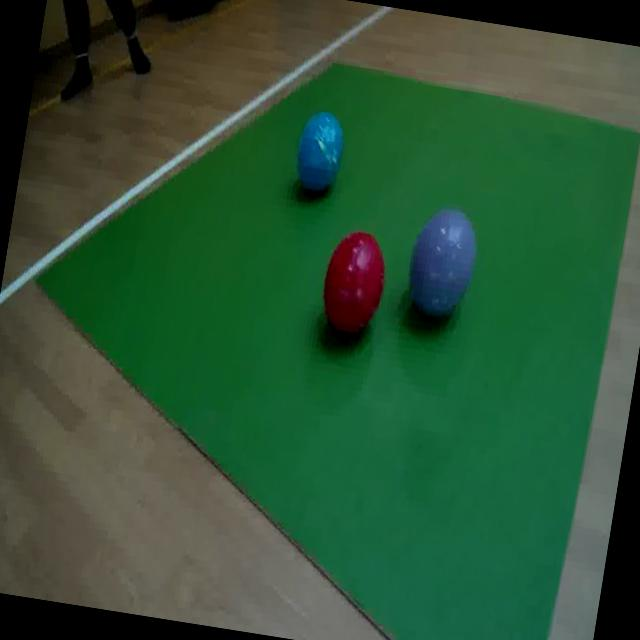blue_ball: (294, 112, 351, 198)
purple_ball: (407, 211, 482, 324)
red_ball: (318, 227, 396, 345)
